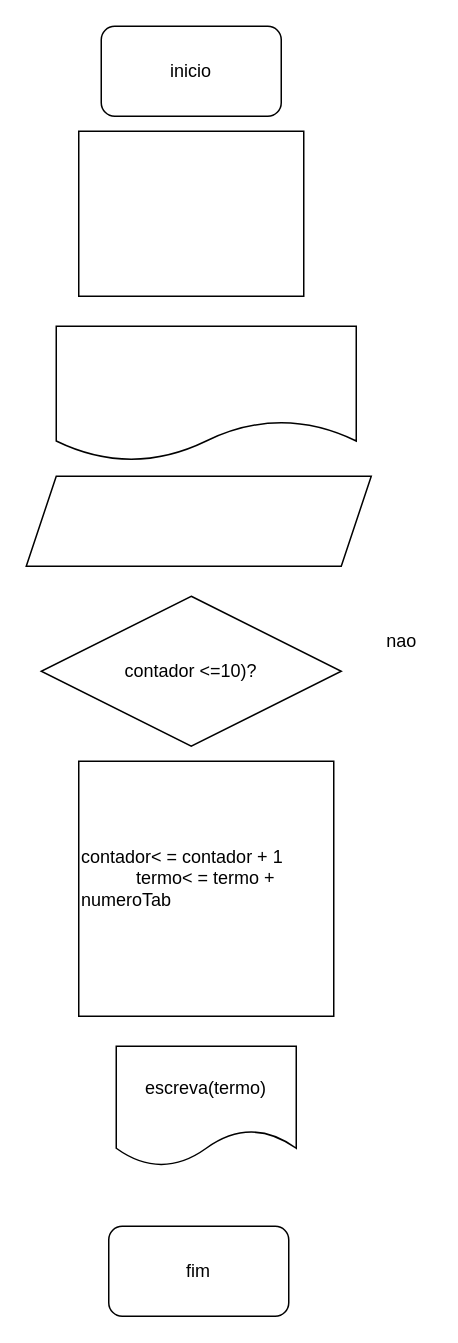
The diagram is 458 pixels wide and 1343 high, and some of its shapes have lost their labels. Here are the shapes that lost their labels. From the top down, the box of each, then its label:
(77, 130, 304, 296): inteiro numeroTab < = 0 termo< - 0 contador< - 1
(55, 325, 356, 461): Ola, jovem! Vamos cacular Eu sou bom em tabuadas
(25, 475, 371, 566): Digite o numero que deseja tabular (numeroTab)
